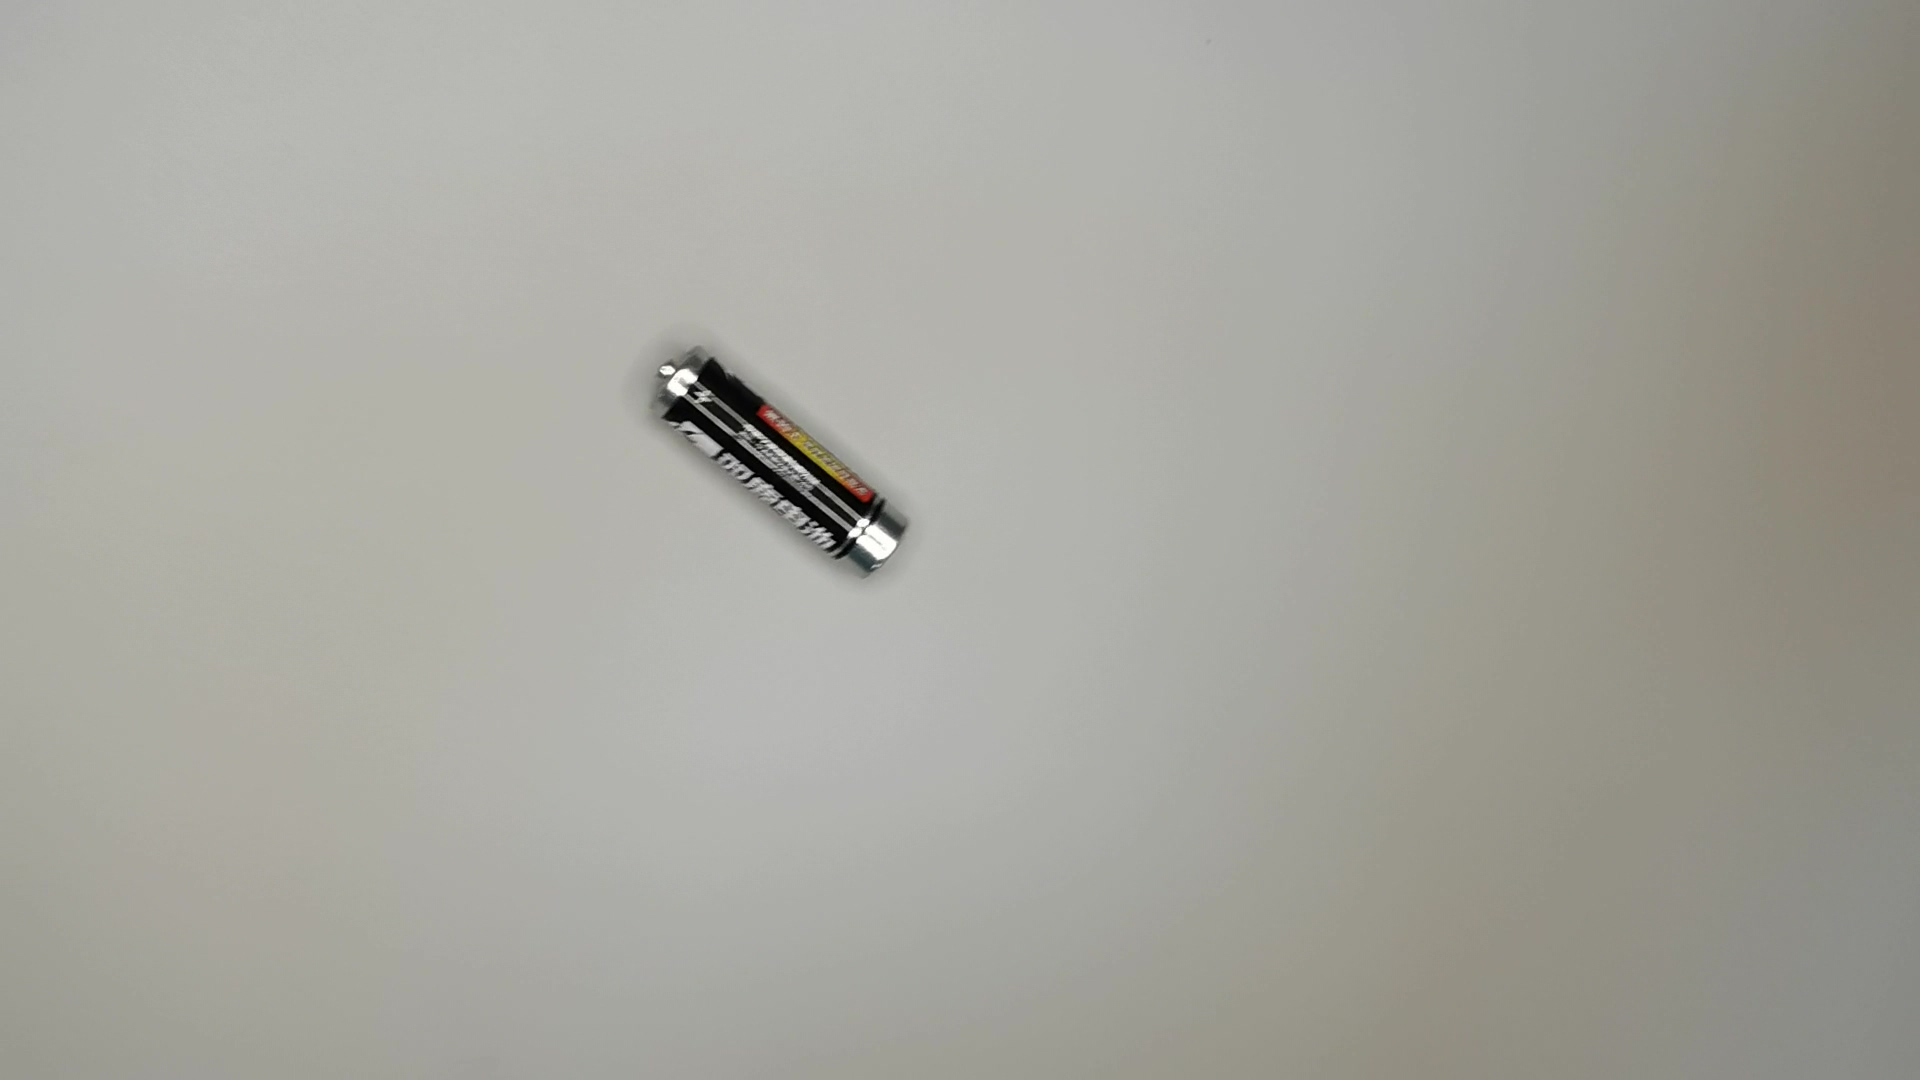battery: (638, 338, 919, 583)
